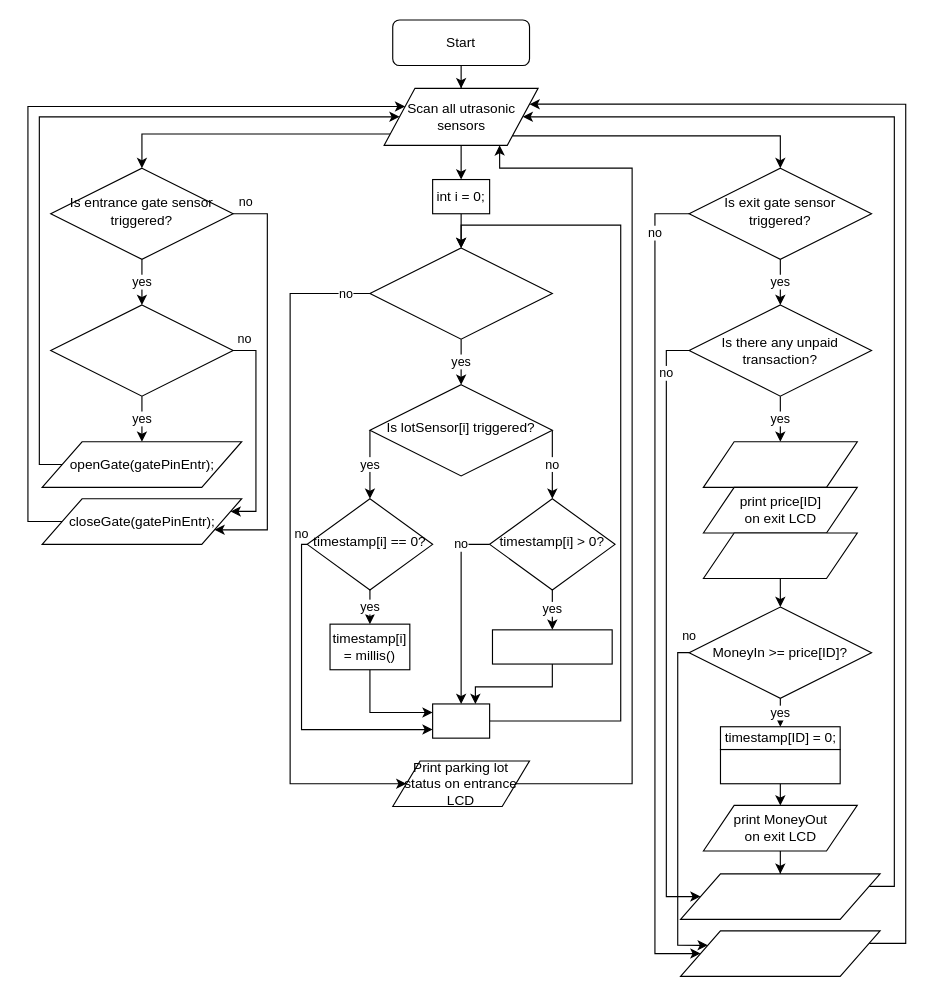
Some shapes in this 935 by 996 pixel diagram are drawn without their labels. The shapes that lost their labels are listed below. From the top down, each one's box as (x1, y1, x2, y2) in pixels, then its label:
(369, 247, 552, 339): i < TotParkingLot ?
(50, 304, 233, 396): Is there empty parking lot?
(702, 441, 857, 487): Parking ID = scanKeypad();
(702, 532, 857, 579): MoneyIn = scanKeypad();
(491, 629, 612, 664): price[i] = (millis() - timestamp[i])*2000
(431, 703, 490, 738): i++;
(719, 748, 840, 784): MoneyOut = MoneyIn - price[ID]
(679, 873, 880, 919): openGate(gatePinExit);
(679, 930, 880, 976): closeGate(gatePinExit);
